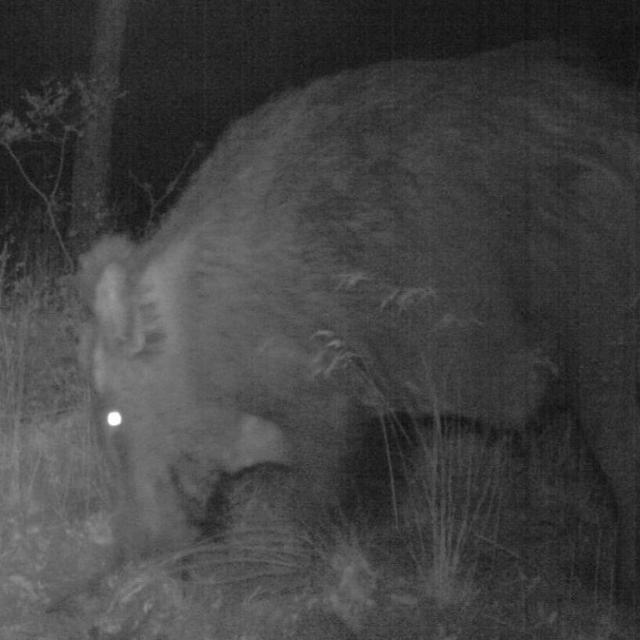pig: (67, 35, 640, 640)
